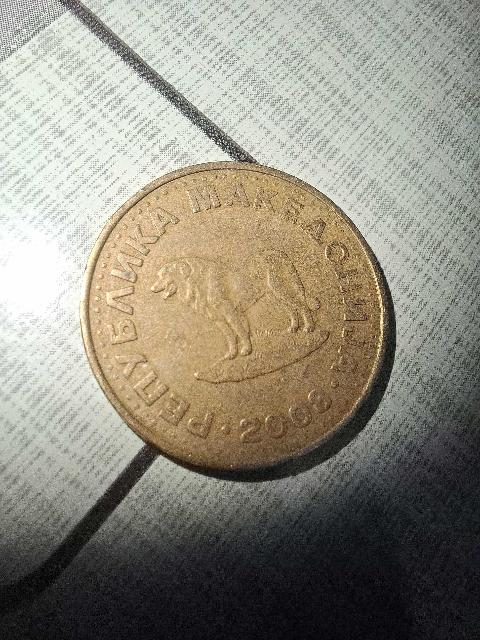1_coin: (81, 162, 387, 469)
